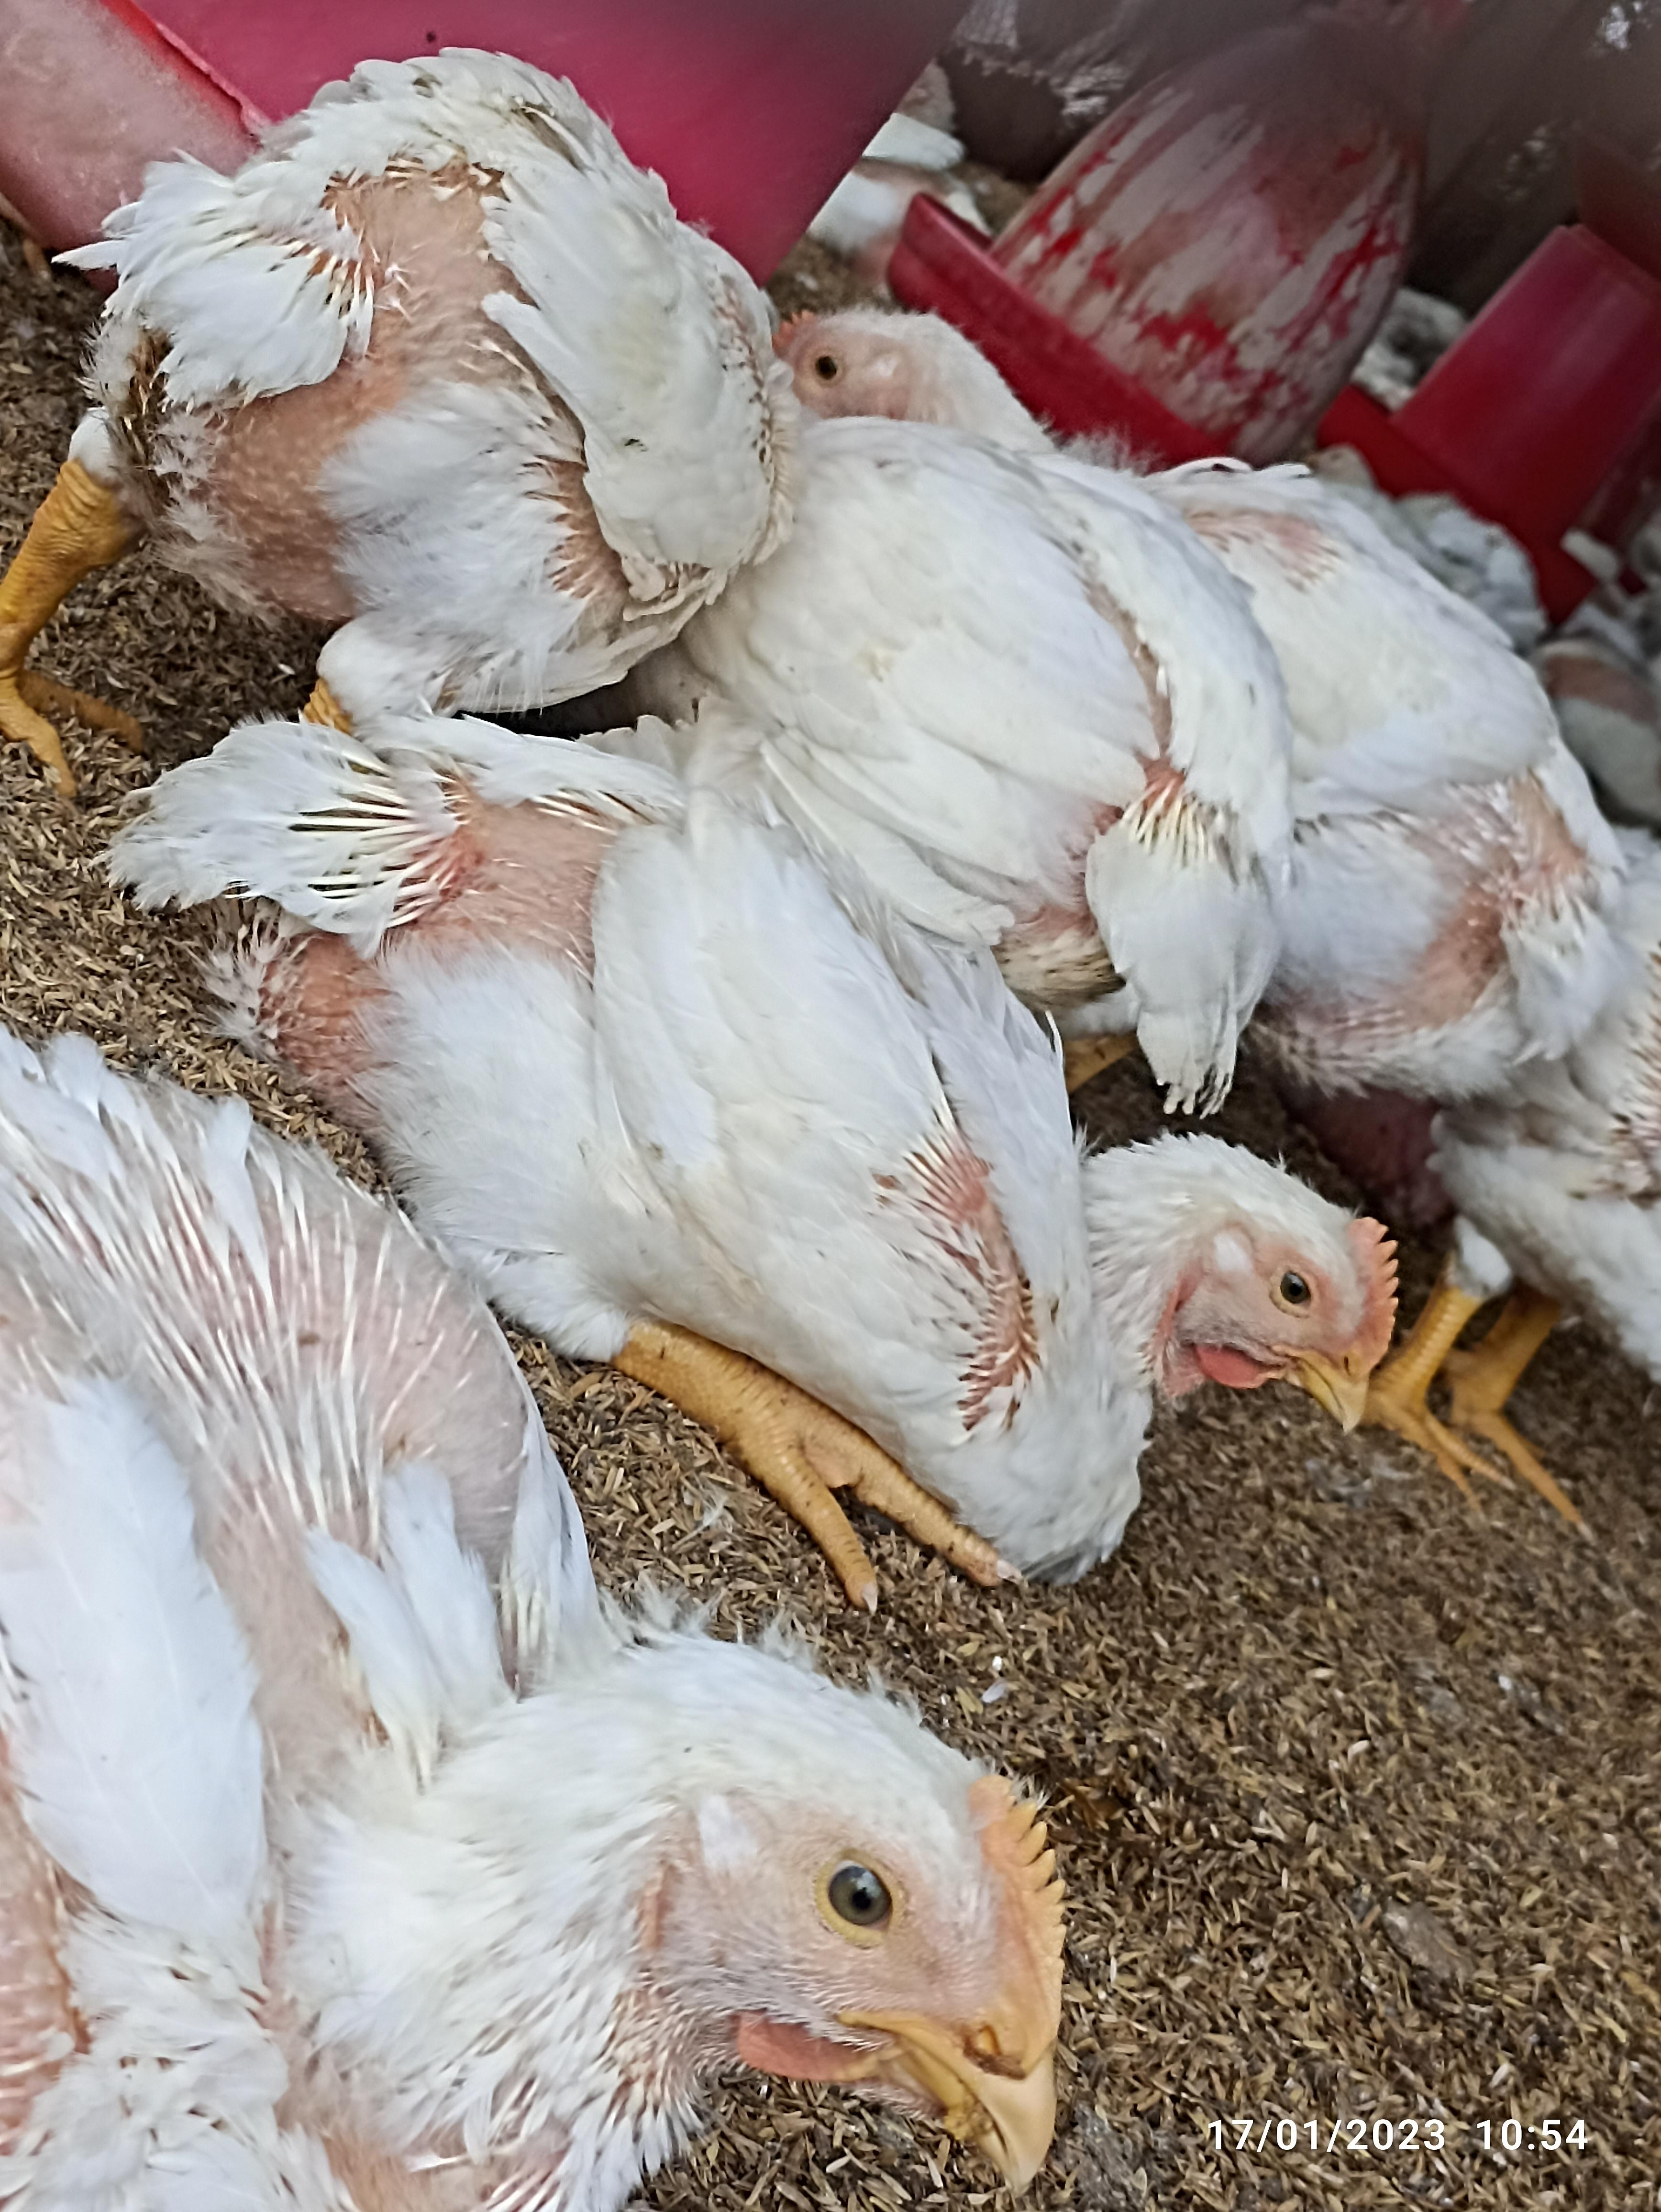Pollos: (236, 741, 1382, 1575), (33, 1591, 1094, 2198), (73, 40, 707, 708), (778, 270, 1546, 745)
